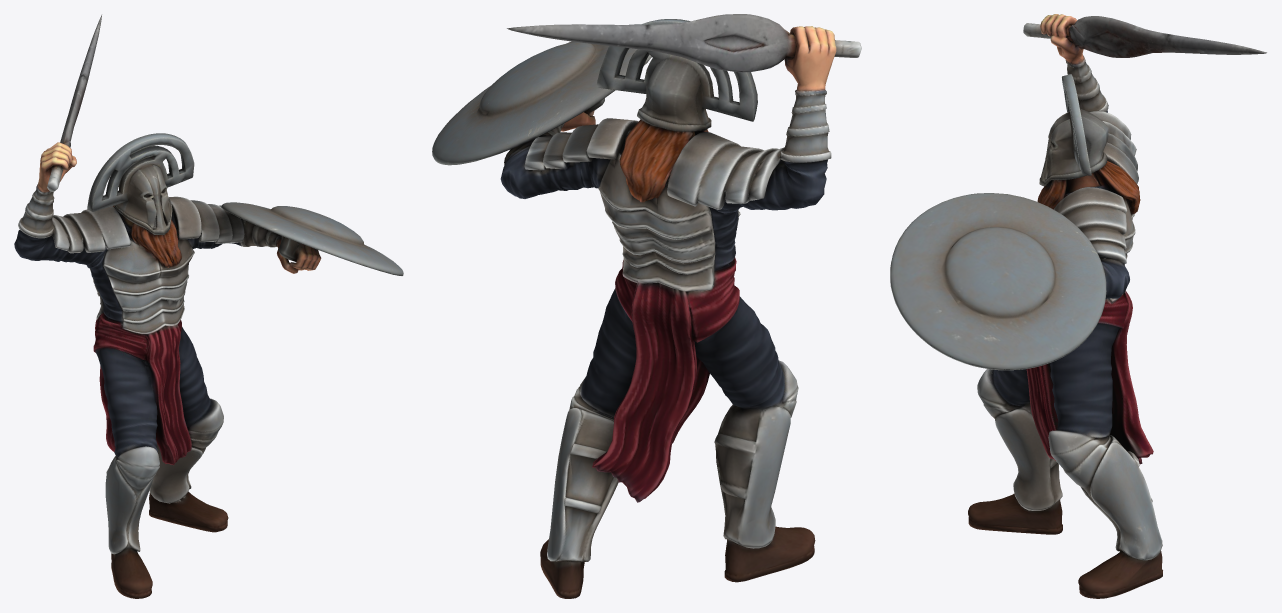
File: MZ4250 - Storm Legionnaire.glb
The picture shows the model from 3 angles, left to right: view 1: azimuth 30°, elevation 25°; view 2: azimuth 150°, elevation 25°; view 3: azimuth 270°, elevation 25°; orthographic projection. The views are drawn at different scales.
Parts seen in each view (by area): view 1: Storm Giant Updated whole no stand.002; view 2: Storm Giant Updated whole no stand.002; view 3: Storm Giant Updated whole no stand.002.
Part boxes in pixels (bbox=[...]): Storm Giant Updated whole no stand.002: bbox=[14, 15, 403, 598]; Storm Giant Updated whole no stand.002: bbox=[432, 14, 861, 598]; Storm Giant Updated whole no stand.002: bbox=[890, 14, 1266, 598].
Bounding box in the file's own units: 5.31 × 7.21 × 4.74.
1 material, 1 textured.
